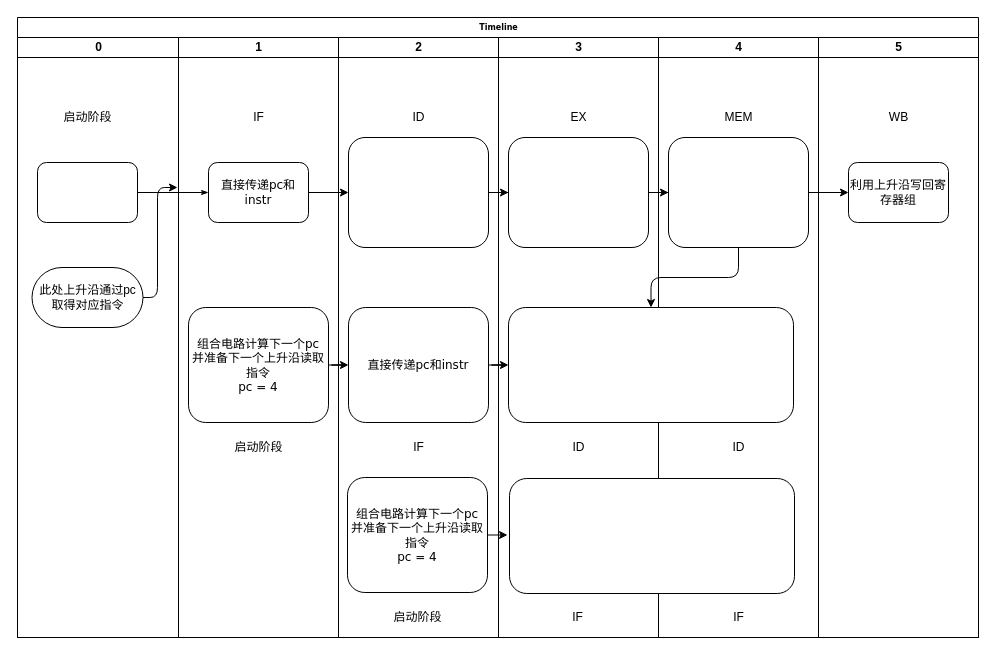
Some shapes in this 996 by 655 pixel diagram are drawn without their labels. The shapes that lost their labels are listed below. From the top down, each one's centre as x and y in pixels, then its label:
(87,192): pc = 0
(418,192): 译码 读取寄存器
(578,192): 执行 需要读取内存到寄存器中 设置stall触发IF、ID暂停
(738,192): 本周期前的上升沿已经完成写回或读取，但对读取操作需要写回寄存器组
(651,364): 由于暂停，ID错误的译码结果未传递 在第二个周期内由MEM转发正确的寄存器值，此时可以正确译码
(651,536): 暂停，pc和instr未传输
